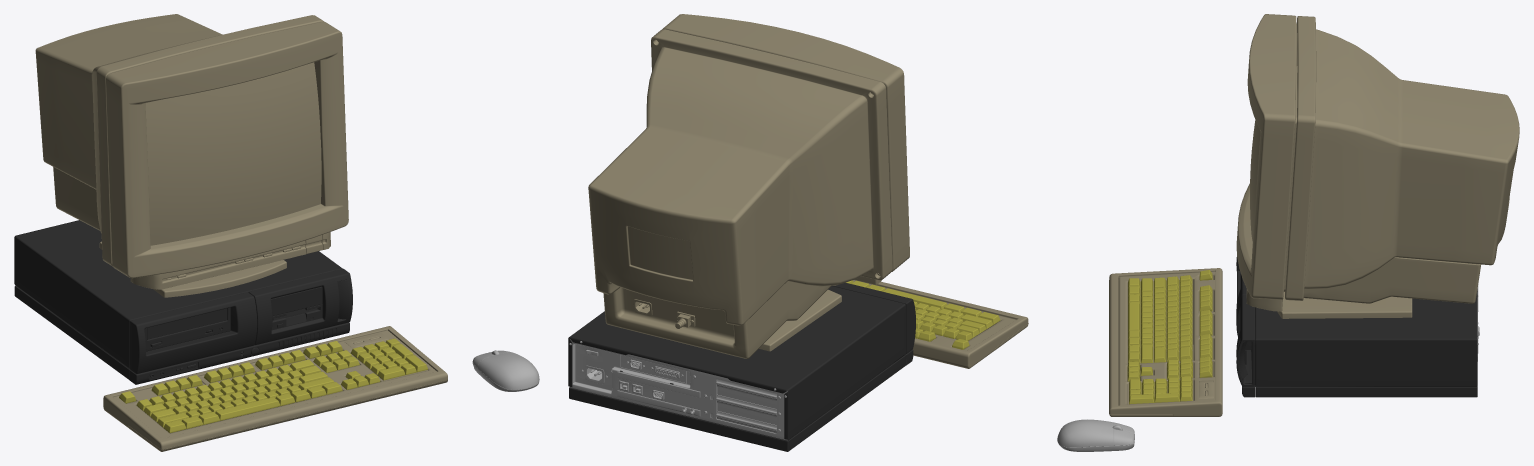
Rendered from Desktop.fbx.
3 renders of one model, left to right at view 1: azimuth 30°, elevation 25°; view 2: azimuth 150°, elevation 25°; view 3: azimuth 270°, elevation 25°, orthographic. The views are drawn at different scales.
Parts seen in each view (by area): view 1: C_monitor01_low, C_deskotBuild_low, C_keyboard_low, C_mouse_low; view 2: C_monitor01_low, C_deskotBuild_low, C_conectionPlate_low, C_keyboard_low; view 3: C_monitor01_low, C_deskotBuild_low, C_keyboard_low, C_mouse_low.
Boxes of the visible parts, bbox=[...] form: C_monitor01_low: bbox=[35, 14, 348, 297]; C_deskotBuild_low: bbox=[14, 220, 352, 384]; C_keyboard_low: bbox=[103, 326, 447, 451]; C_mouse_low: bbox=[472, 350, 539, 391]; C_monitor01_low: bbox=[588, 14, 909, 358]; C_deskotBuild_low: bbox=[568, 282, 915, 451]; C_conectionPlate_low: bbox=[569, 339, 787, 440]; C_keyboard_low: bbox=[846, 279, 1028, 368]; C_monitor01_low: bbox=[1236, 14, 1519, 318]; C_deskotBuild_low: bbox=[1236, 257, 1477, 397]; C_keyboard_low: bbox=[1109, 268, 1222, 416]; C_mouse_low: bbox=[1057, 419, 1134, 451].
Bounding box in the file's own units: 61.01 × 49.43 × 70.43.
